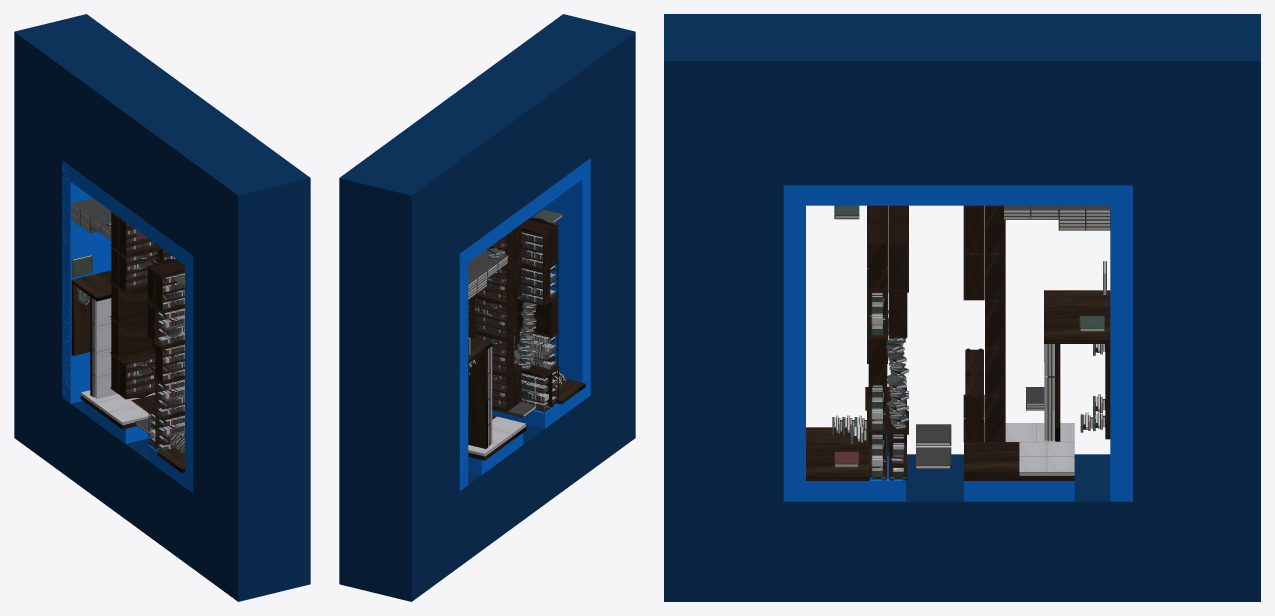
File: FaceC2.glb
The picture shows the model from 3 angles, left to right: view 1: azimuth 30°, elevation 25°; view 2: azimuth 150°, elevation 25°; view 3: azimuth 270°, elevation 25°; orthographic projection. The views are drawn at different scales.
Visible parts, largest first — view 1: paredeTRUETRUE-col.004, PlanoTrue-col.003, livros.005-col, livros.006-col, livros.007-col, livrosSTACK-col.005, livros.008-col, livros.003-col.001, livros.025-col.002, Cubo-col.002, livros.001-col.001, livrosSTACK-col.004 (+4 smaller); view 2: paredeTRUETRUE-col.004, PlanoTrue-col.003, livros.006-col, livros.007-col, livros.005-col, livros.003-col.001, Cubo-col.004, livros.001-col.001, livros.008-col, livrosSTACK-col.004, livros.004-col, PilhaDeLivros-col.025 (+3 smaller); view 3: paredeTRUETRUE-col.004, PlanoTrue-col.003, livros.005-col, livros.003-col.001, Cubadadao-col, livros.007-col, livros.025-col.002, livros.008-col, Cubo-col.005, Cubo-col.003, livrosSTACK-col.004, livros.00-col (+7 smaller).
Part boxes in pixels (<box>): paredeTRUETRUE-col.004: <box>14,14,310,601</box>; PlanoTrue-col.003: <box>62,160,193,492</box>; livros.005-col: <box>110,212,175,292</box>; livros.006-col: <box>110,283,155,358</box>; livros.007-col: <box>146,301,184,383</box>; livrosSTACK-col.005: <box>92,297,117,398</box>; livros.008-col: <box>110,348,155,399</box>; livros.003-col.001: <box>146,258,184,311</box>; livros.025-col.002: <box>81,390,155,425</box>; Cubo-col.002: <box>71,283,90,355</box>; livros.001-col.001: <box>147,406,184,451</box>; livrosSTACK-col.004: <box>71,198,111,240</box>; paredeTRUETRUE-col.004: <box>339,14,635,601</box>; PlanoTrue-col.003: <box>459,158,590,490</box>; livros.006-col: <box>468,297,515,376</box>; livros.007-col: <box>514,260,559,336</box>; livros.005-col: <box>473,224,522,305</box>; livros.003-col.001: <box>521,217,559,270</box>; Cubo-col.004: <box>468,348,487,448</box>; livros.001-col.001: <box>516,363,560,412</box>; livros.008-col: <box>491,364,522,411</box>; livrosSTACK-col.004: <box>468,250,508,299</box>; livros.004-col: <box>514,328,559,372</box>; PilhaDeLivros-col.025: <box>517,302,536,369</box>; paredeTRUETRUE-col.004: <box>664,14,1260,601</box>; PlanoTrue-col.003: <box>783,185,1132,501</box>; livros.005-col: <box>963,205,1005,300</box>; livros.003-col.001: <box>867,205,908,291</box>; Cubadadao-col: <box>1044,290,1110,343</box>; livros.007-col: <box>867,245,908,386</box>; livros.025-col.002: <box>984,423,1074,475</box>; livros.008-col: <box>963,348,1005,442</box>; Cubo-col.005: <box>806,427,869,480</box>; Cubo-col.003: <box>964,442,1074,480</box>; livrosSTACK-col.004: <box>1004,205,1110,230</box>; livros.00-col: <box>867,410,908,480</box>.
Size of the model in its own units: 105 by 509 by 509.
Materials: 436 (433 with a texture image).
